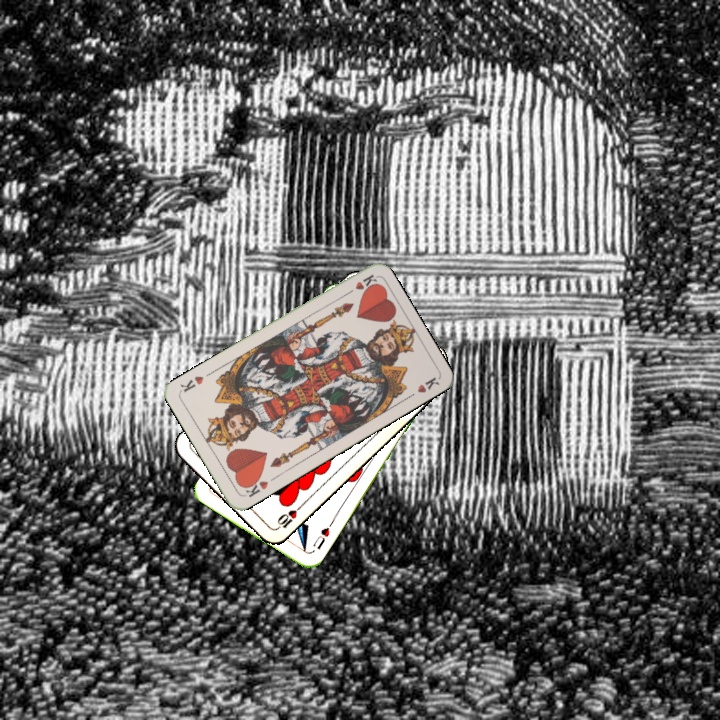H10: (271, 502, 305, 533)
HK: (340, 270, 379, 299), (239, 473, 271, 500)
HU: (308, 523, 332, 552)
